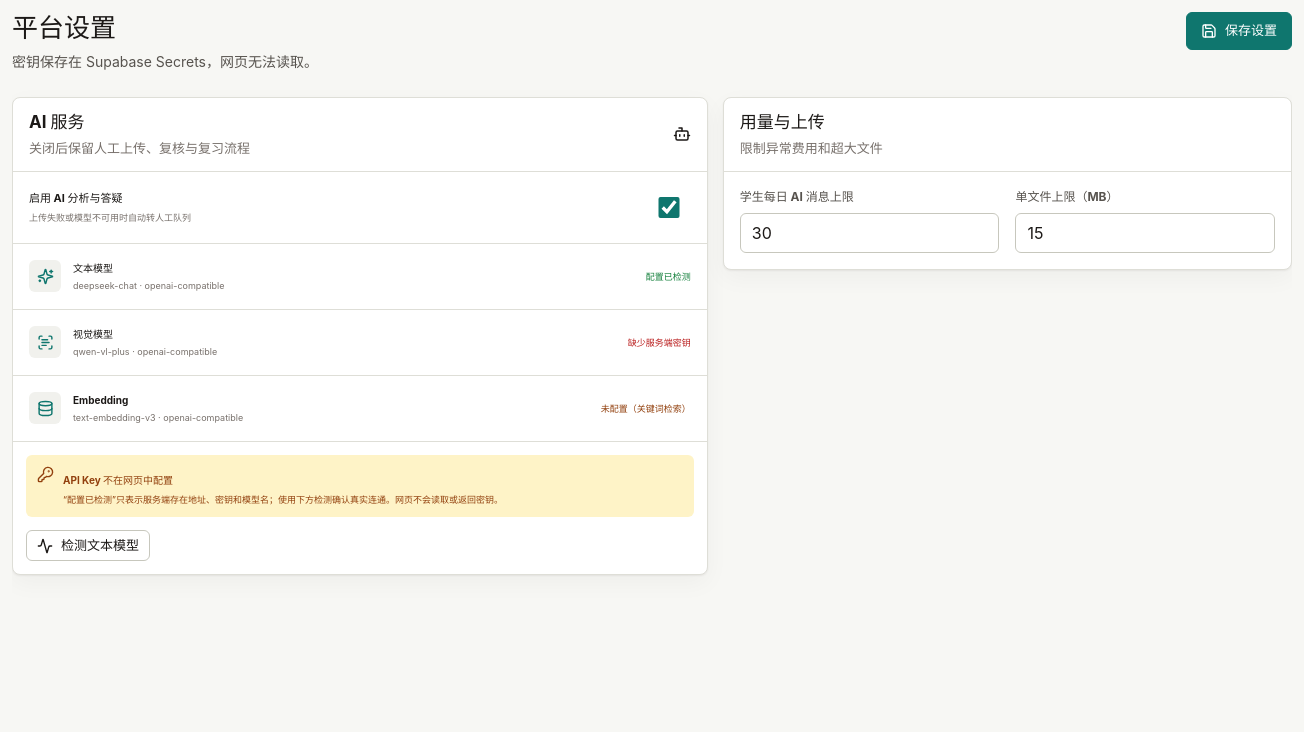
Test case: AI provider status › runs a real server-side text model health check without exposing a key field
The width and height of the screenshot is (1304, 732).
What coordinates should you click on to do the following:
click the button "检测文本模型"
I would click on:
 (88, 546)
Its box is [26, 530, 150, 562].
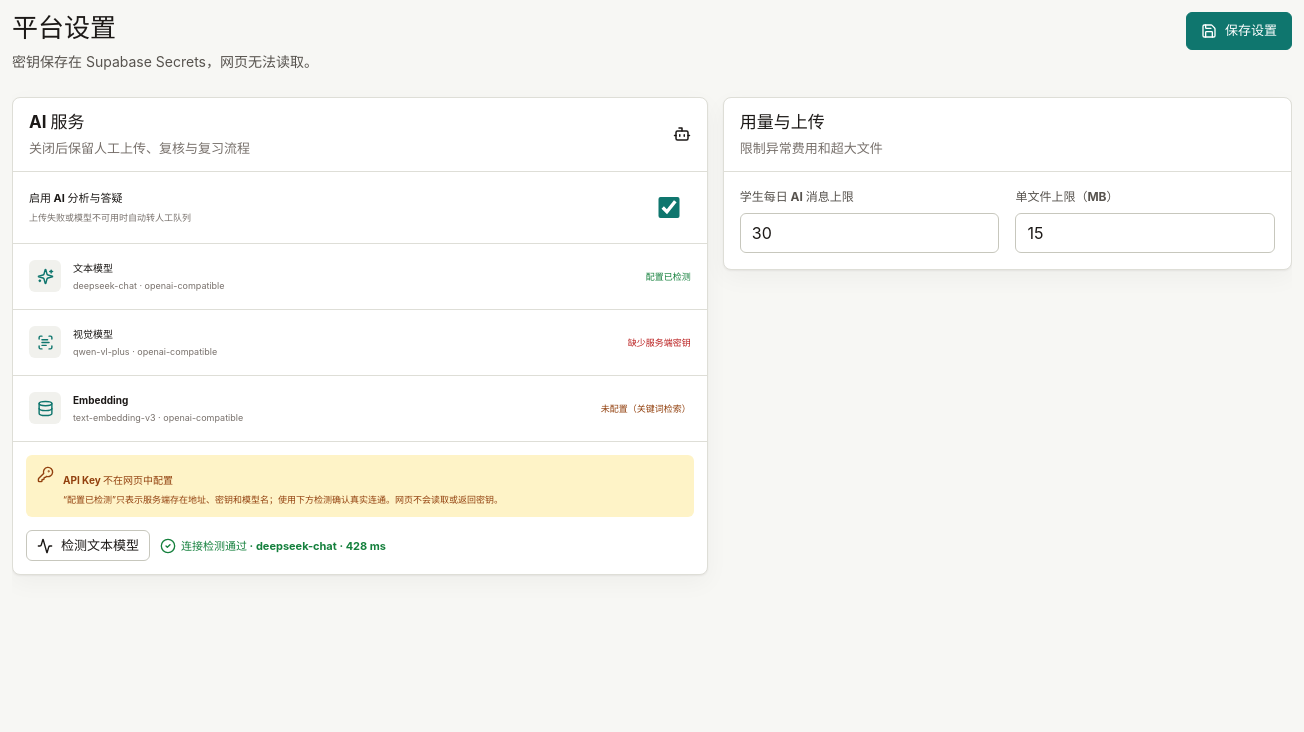
Expected: the text "连接检测通过 · deepseek-chat · 428 ms" is shown, [160, 538, 386, 554]
